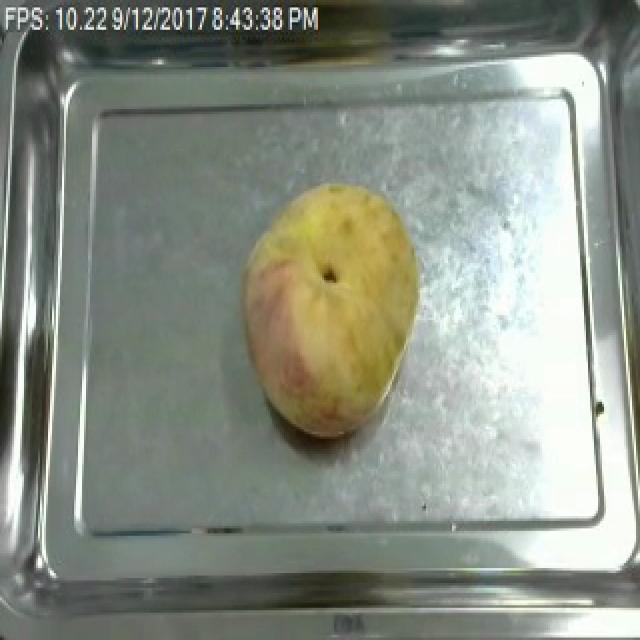Fruit: (232, 176, 428, 444)
